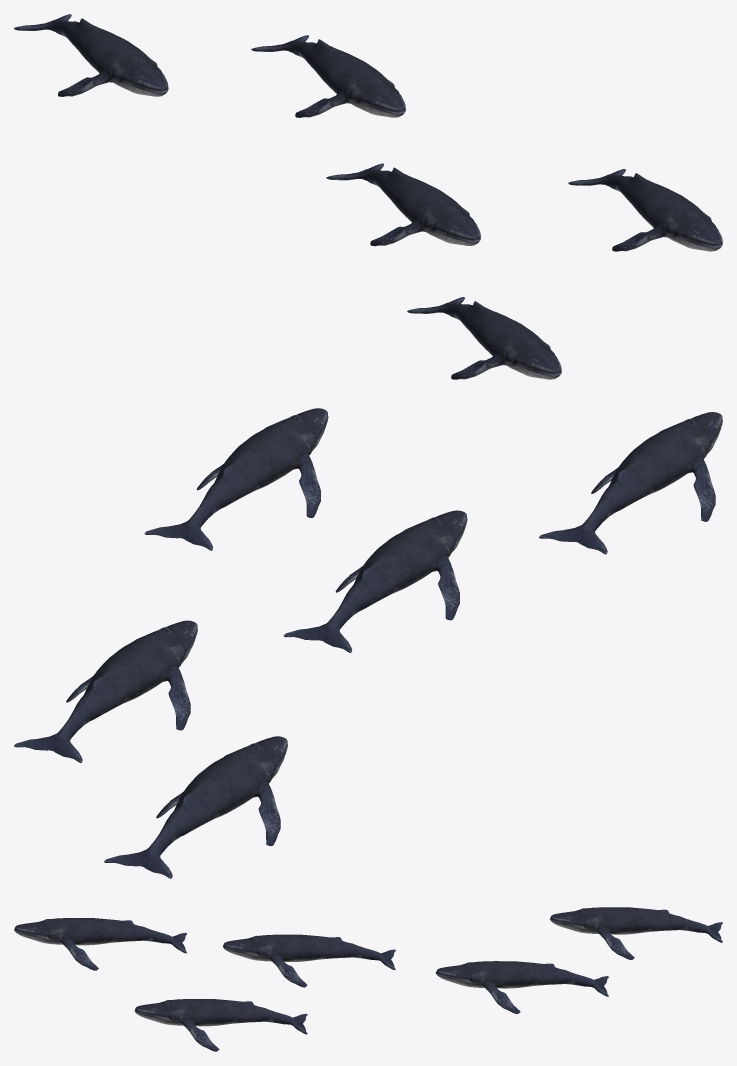
Rendered from groupwhalewithlight.glb.
3 views of the same model, one above another, from view 1: azimuth 30°, elevation 25°; view 2: azimuth 150°, elevation 25°; view 3: azimuth 270°, elevation 25° (orthographic). The views are drawn at different scales.
Parts seen in each view (by area): view 1: blue whale.002, blue whale.004, blue whale.006, blue whale.008, blue whale; view 2: blue whale.002, blue whale.004, blue whale, blue whale.006, blue whale.008; view 3: blue whale.002, blue whale.004, blue whale.008, blue whale, blue whale.006.
Boxes of the visible parts, x1=… form: blue whale.002: x1=251, y1=35, x2=405, y2=117; blue whale.004: x1=14, y1=14, x2=168, y2=96; blue whale.006: x1=407, y1=297, x2=561, y2=379; blue whale.008: x1=568, y1=169, x2=722, y2=251; blue whale: x1=326, y1=163, x2=480, y2=246; blue whale.002: x1=14, y1=620, x2=197, y2=762; blue whale.004: x1=104, y1=736, x2=287, y2=878; blue whale: x1=283, y1=510, x2=467, y2=652; blue whale.006: x1=539, y1=412, x2=722, y2=554; blue whale.008: x1=144, y1=408, x2=328, y2=550; blue whale.002: x1=436, y1=961, x2=608, y2=1013; blue whale.004: x1=550, y1=907, x2=722, y2=959; blue whale.008: x1=134, y1=999, x2=307, y2=1051; blue whale: x1=223, y1=934, x2=395, y2=987; blue whale.006: x1=14, y1=918, x2=186, y2=970.
Bounding box in the file's own units: 0.8579 × 0.1347 × 2.08.
1 material, 1 textured.
